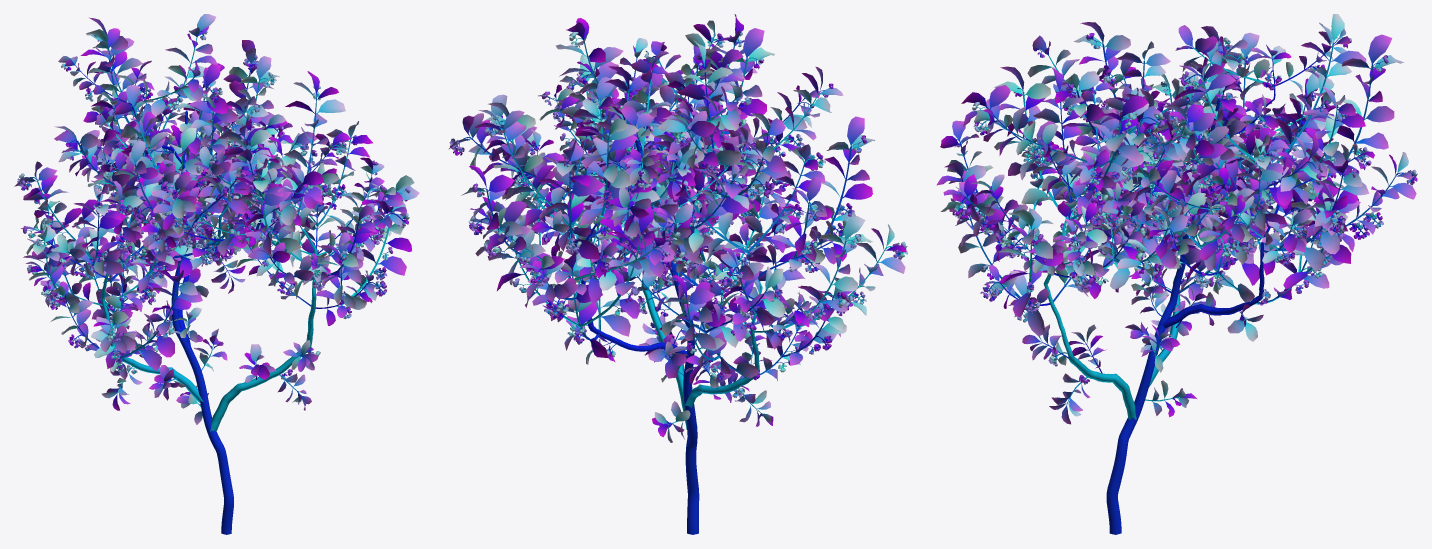
Rendered from European_Spindle_wk1ncbxja_Mid_wk1ncbxja_VarB_LOD0.fbx.
3 views of the same model, side by side, from view 1: azimuth 30°, elevation 25°; view 2: azimuth 150°, elevation 25°; view 3: azimuth 270°, elevation 25° (orthographic). The views are drawn at different scales.
Parts seen in each view (by area): view 1: _wrcq_VarB_LOD1; view 2: _wrcq_VarB_LOD1; view 3: _wrcq_VarB_LOD1.
Part boxes in pixels (x1,y1,x2,y2): _wrcq_VarB_LOD1: (14, 14, 419, 534); _wrcq_VarB_LOD1: (448, 14, 907, 534); _wrcq_VarB_LOD1: (936, 14, 1417, 534).
Size of the model in its own units: 177 by 223 by 193.
